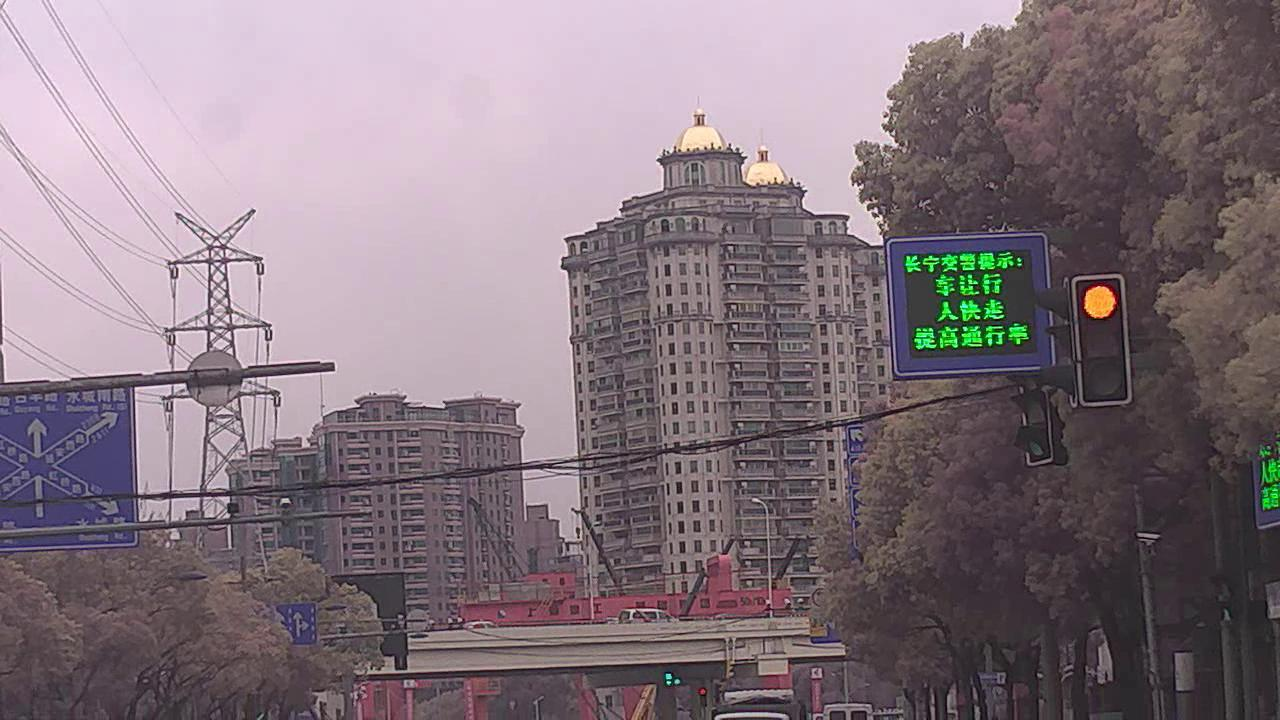traffic_light: (1074, 275, 1132, 405)
